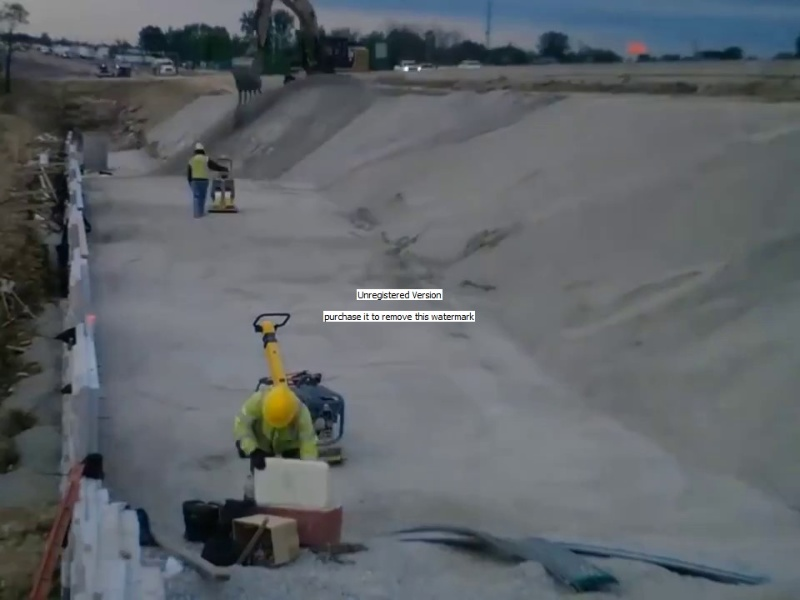dumptruck: (148, 55, 178, 76)
excavator: (229, 1, 372, 93)
hardhat: (260, 383, 301, 430), (191, 140, 206, 153)
person: (232, 383, 321, 475), (187, 142, 229, 218)
wall: (56, 127, 166, 600)
